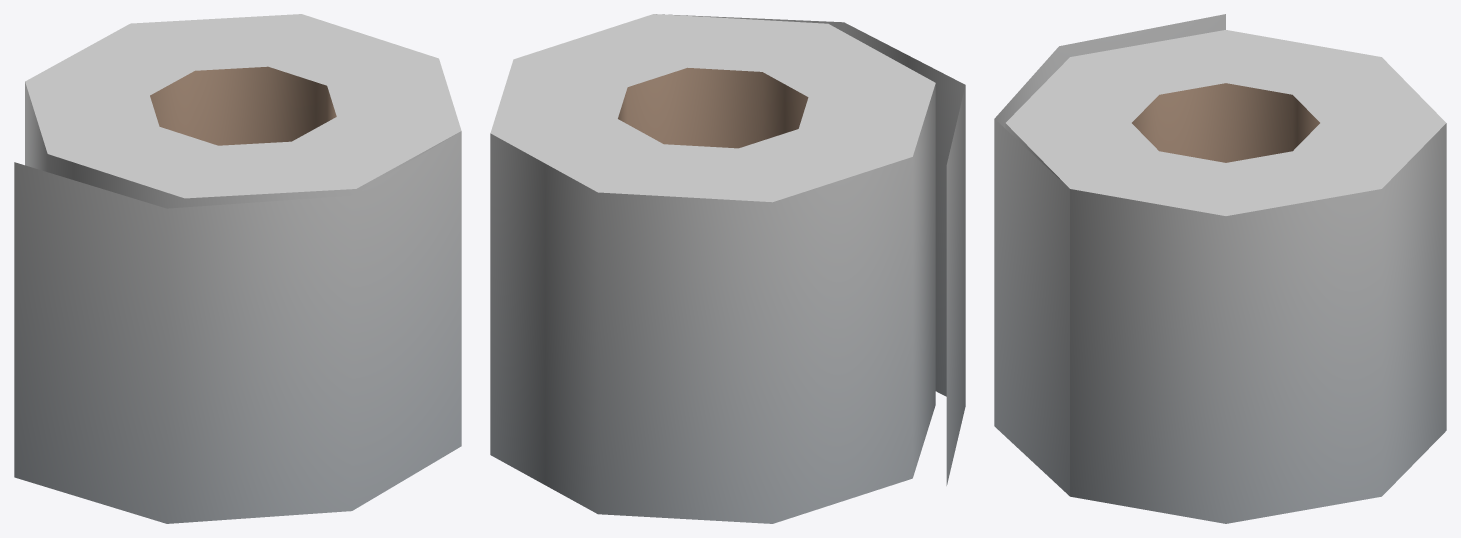
Rendered from toilet-paper-roll.glb.
3 renders of one model, left to right at view 1: azimuth 30°, elevation 25°; view 2: azimuth 150°, elevation 25°; view 3: azimuth 270°, elevation 25°, orthographic. The views are drawn at different scales.
Visible parts, largest first — view 1: toilet-paper-roll; view 2: toilet-paper-roll; view 3: toilet-paper-roll.
Part boxes in pixels (left/top/right/bottom): toilet-paper-roll: left=14, top=14, right=461, bottom=523; toilet-paper-roll: left=490, top=14, right=965, bottom=523; toilet-paper-roll: left=994, top=14, right=1446, bottom=523.
Bounding box in the file's own units: 0.1559 × 0.1107 × 0.1472.
